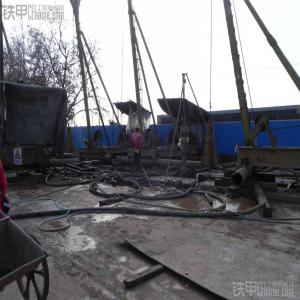white: (135, 124, 141, 133)
